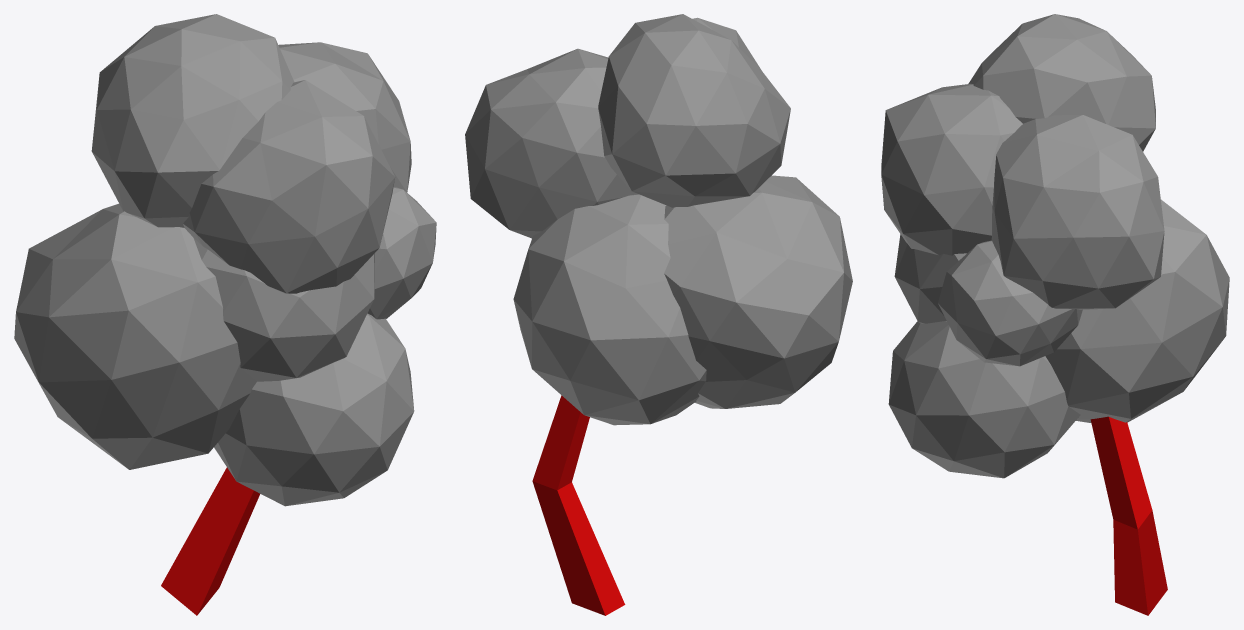
Rendered from tree_bod.FBX.
3 views of the same model, side by side, from view 1: azimuth 30°, elevation 25°; view 2: azimuth 150°, elevation 25°; view 3: azimuth 270°, elevation 25° (orthographic). The views are drawn at different scales.
Parts seen in each view (by area): view 1: tree; view 2: tree; view 3: tree.
Boxes of the visible parts, x1=… form: tree: x1=14, y1=14, x2=436, y2=615; tree: x1=465, y1=14, x2=852, y2=615; tree: x1=881, y1=14, x2=1229, y2=615.
Bounding box in the file's own units: 443 × 700 × 390.
